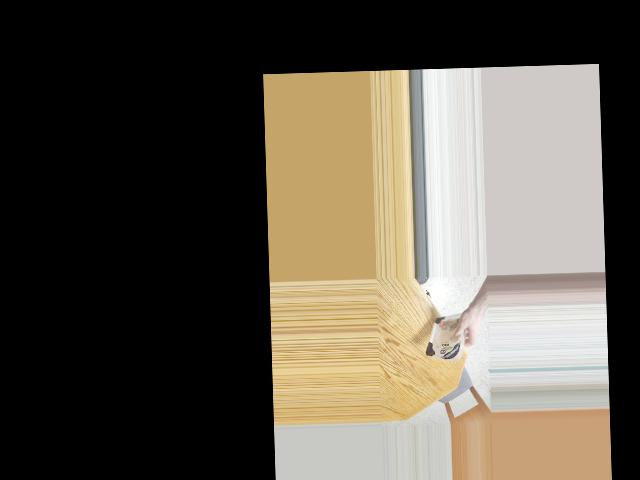cheese: (429, 310, 465, 363)
